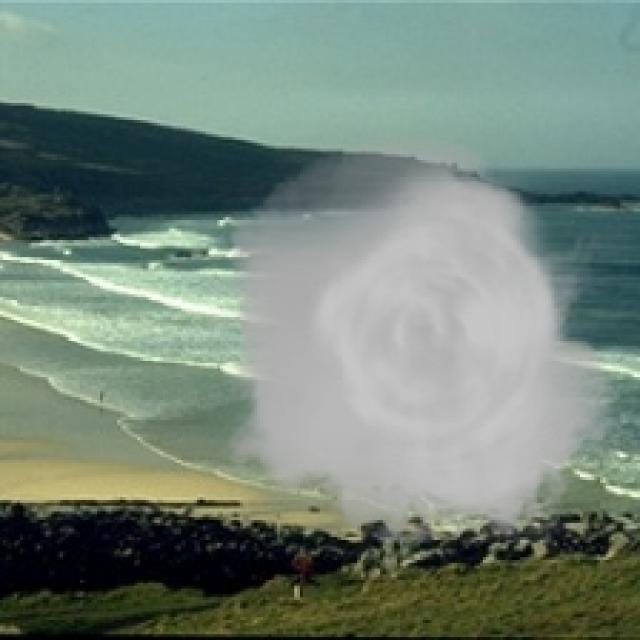Smoke: (208, 134, 628, 543)
